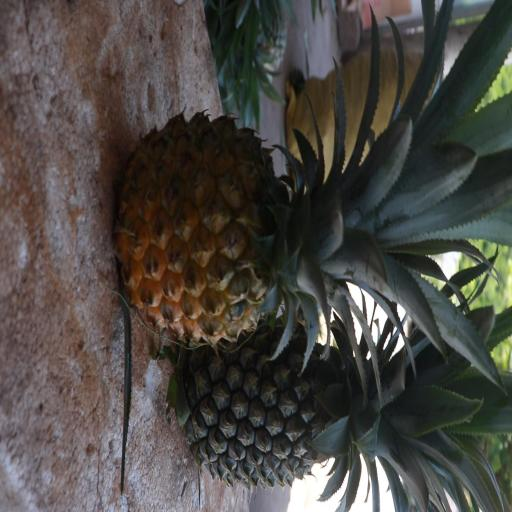Pineapple - v8 v1: (120, 116, 467, 332)
